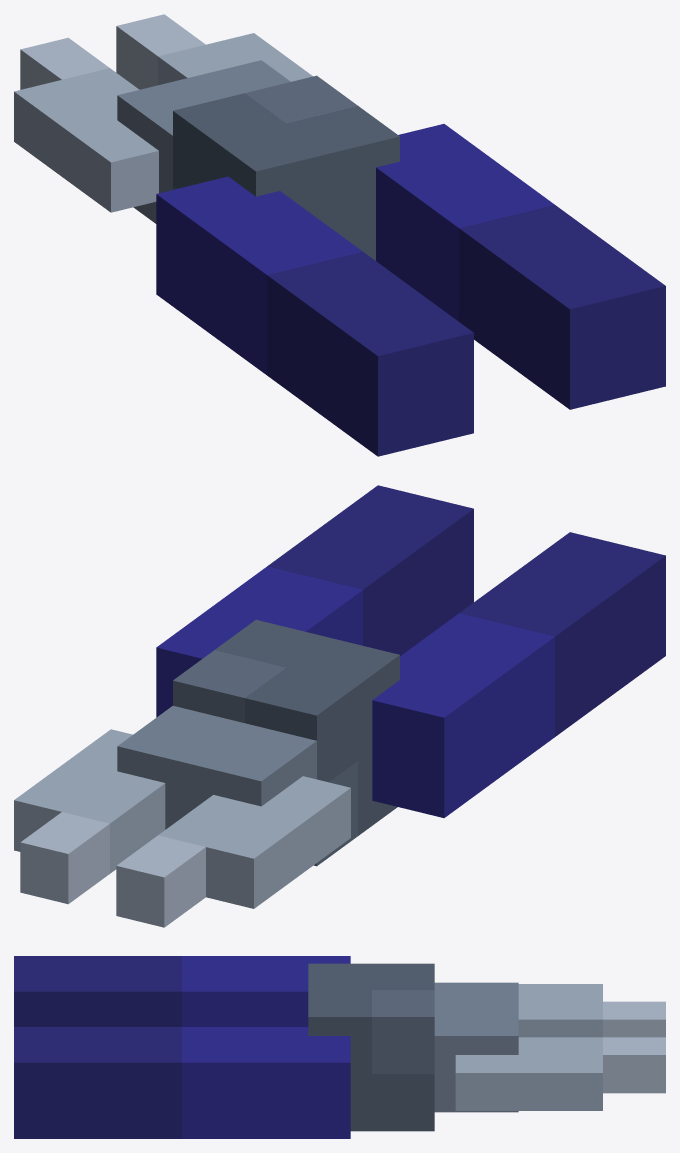
The model's file is sekator.fbx.
The picture shows the model from 3 angles, top to bottom: view 1: azimuth 30°, elevation 25°; view 2: azimuth 150°, elevation 25°; view 3: azimuth 270°, elevation 25°; orthographic projection. The views are drawn at different scales.
Parts seen in each view (by area): view 1: cube_1, cube, cube_2, cube_7, cube_3, cube_4, cube_5, cube_6; view 2: cube_1, cube, cube_2, cube_7, cube_3, cube_4, cube_5, cube_6; view 3: cube, cube_1, cube_2, cube_4, cube_3, cube_7, cube_5, cube_6.
Boxes of the visible parts, x1=… form: cube_1: x1=156, y1=176, x2=473, y2=456; cube: x1=376, y1=124, x2=665, y2=409; cube_2: x1=173, y1=75, x2=399, y2=260; cube_7: x1=14, y1=68, x2=158, y2=212; cube_3: x1=117, y1=60, x2=290, y2=223; cube_4: x1=158, y1=33, x2=312, y2=85; cube_5: x1=116, y1=14, x2=205, y2=89; cube_6: x1=20, y1=37, x2=109, y2=89; cube_1: x1=372, y1=532, x2=665, y2=817; cube: x1=156, y1=485, x2=473, y2=717; cube_2: x1=173, y1=619, x2=399, y2=866; cube_7: x1=158, y1=776, x2=350, y2=908; cube_3: x1=117, y1=706, x2=316, y2=829; cube_4: x1=14, y1=729, x2=165, y2=873; cube_5: x1=20, y1=812, x2=109, y2=904; cube_6: x1=116, y1=835, x2=205, y2=927; cube: x1=14, y1=1027, x2=350, y2=1138; cube_1: x1=14, y1=956, x2=350, y2=1026; cube_2: x1=308, y1=963, x2=434, y2=1131; cube_4: x1=455, y1=1037, x2=602, y2=1110; cube_3: x1=434, y1=982, x2=518, y2=1112; cube_7: x1=518, y1=984, x2=602, y2=1037; cube_5: x1=603, y1=1037, x2=665, y2=1093; cube_6: x1=603, y1=1001, x2=665, y2=1037.
Bounding box in the file's own units: 18.75 × 9.38 × 48.44.
